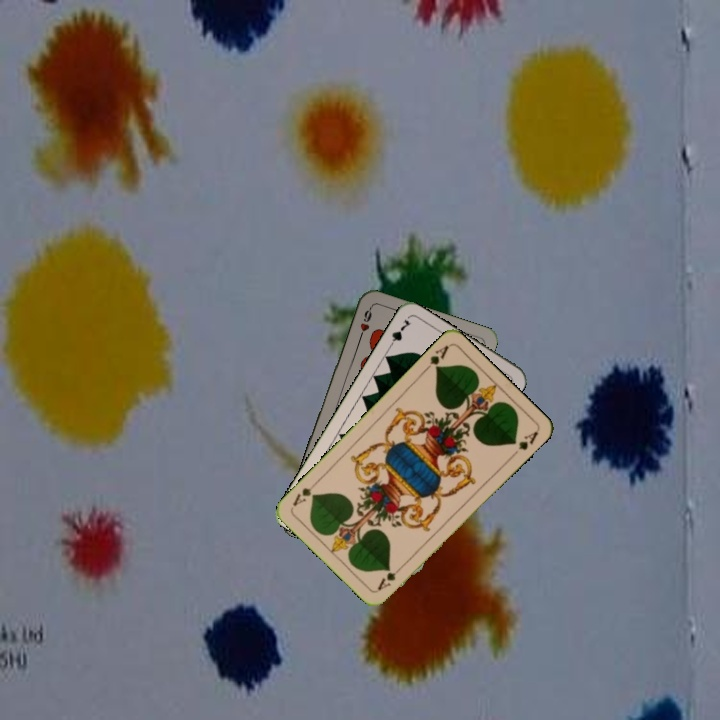G7: (384, 315, 414, 352)
GA: (420, 341, 452, 374), (373, 561, 406, 593)
H9: (355, 304, 374, 343)
